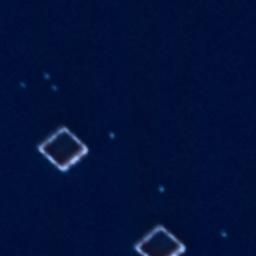square_solid: (33, 123, 94, 176), (130, 220, 191, 256)
